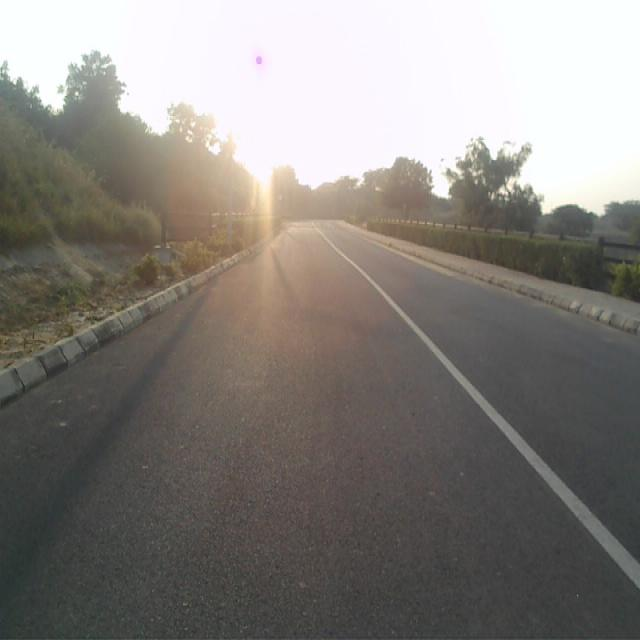lane: (0, 220, 640, 639)
